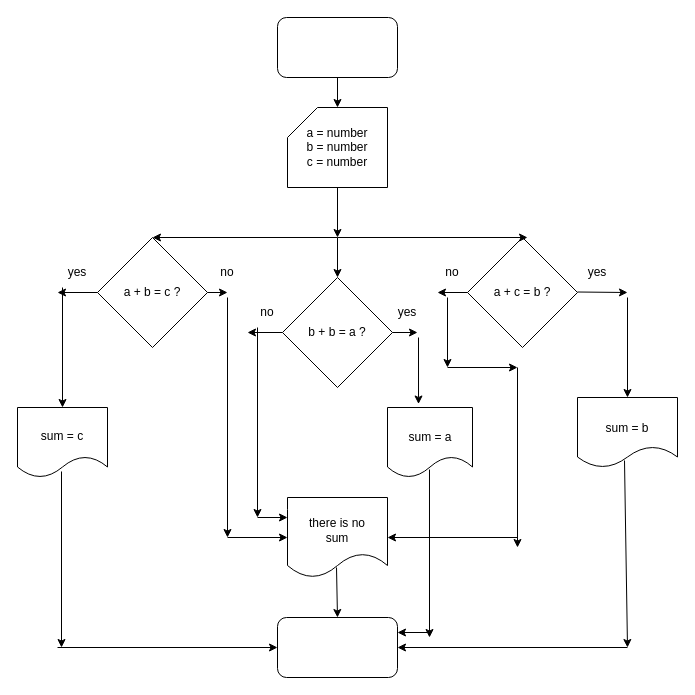
Image size: 695x695. Some labels were removed from this diagram. Each missing label, with the centre of its shape:
"END" belongs at [337,647].
"START" belongs at [337,47].
